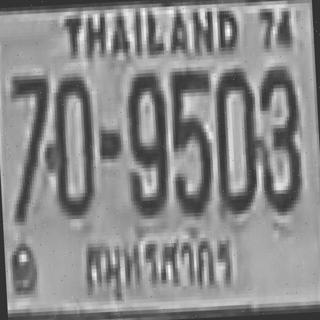N00: (46, 73, 96, 217), (210, 64, 258, 212)
N03: (253, 62, 301, 209)
N05: (167, 66, 215, 214)
N07: (7, 71, 53, 219), (10, 71, 50, 171)
N09: (123, 69, 169, 216)
P58: (77, 225, 245, 314)
